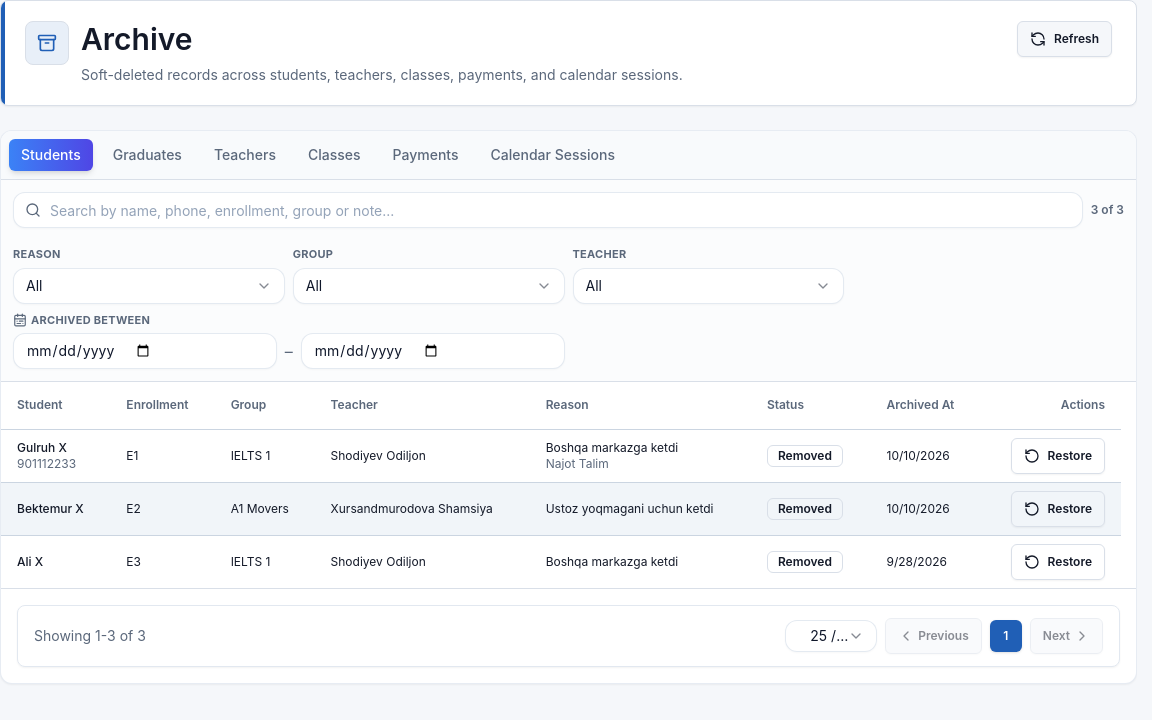
it: archive page search and filters › filters by archive date
Expected: the text "Najot Talim" is shown, [546, 456, 609, 471]
Type "2026-10-01" into the date field named "From date".
click(145, 350); type("2026-10-01")  # box [13, 332, 277, 368]
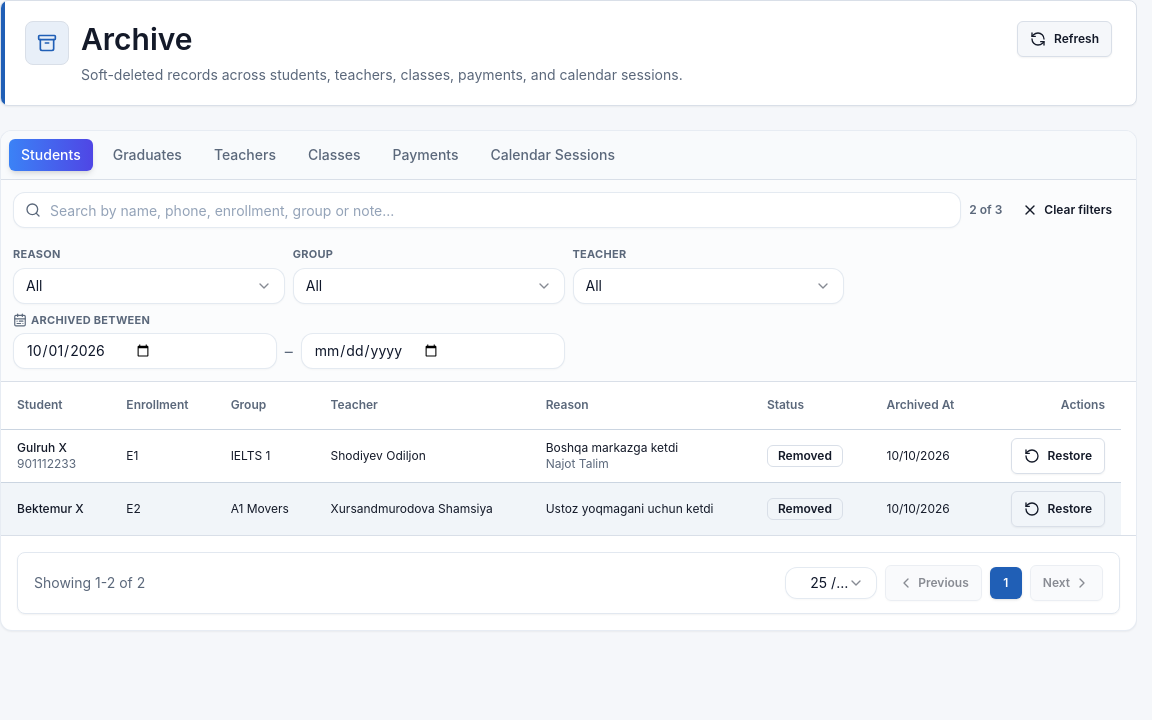
Expected: the text "2 of 3" is shown, [969, 202, 1002, 218]
